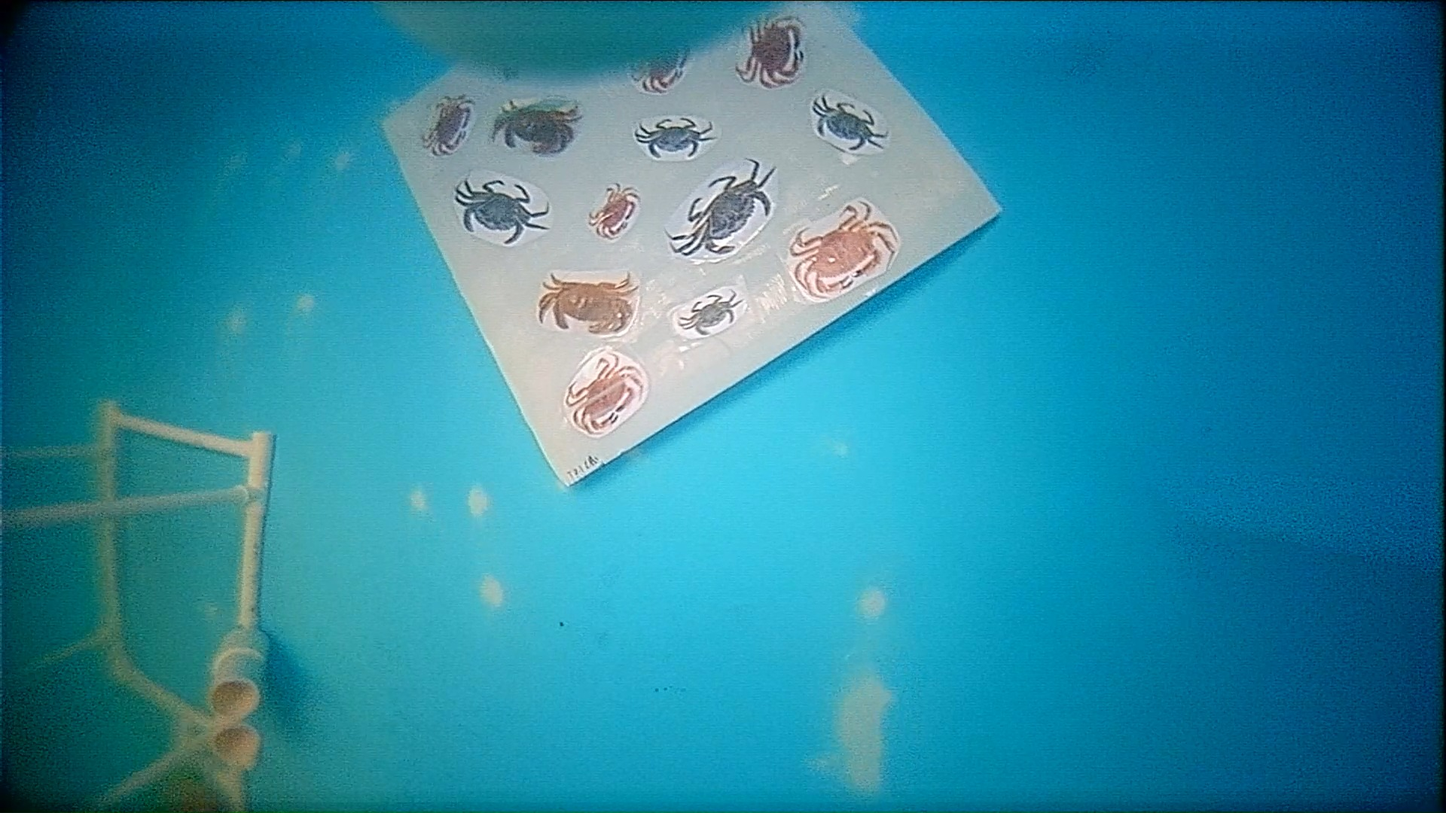GreenCrab: (669, 160, 770, 255), (455, 178, 549, 245), (813, 96, 887, 151), (635, 119, 712, 159), (681, 294, 742, 336)
